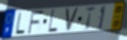1: (98, 5, 107, 30)
F: (27, 9, 45, 35)
L: (47, 9, 59, 35), (14, 12, 26, 36)
T: (84, 6, 97, 32)
V: (65, 8, 80, 33)
